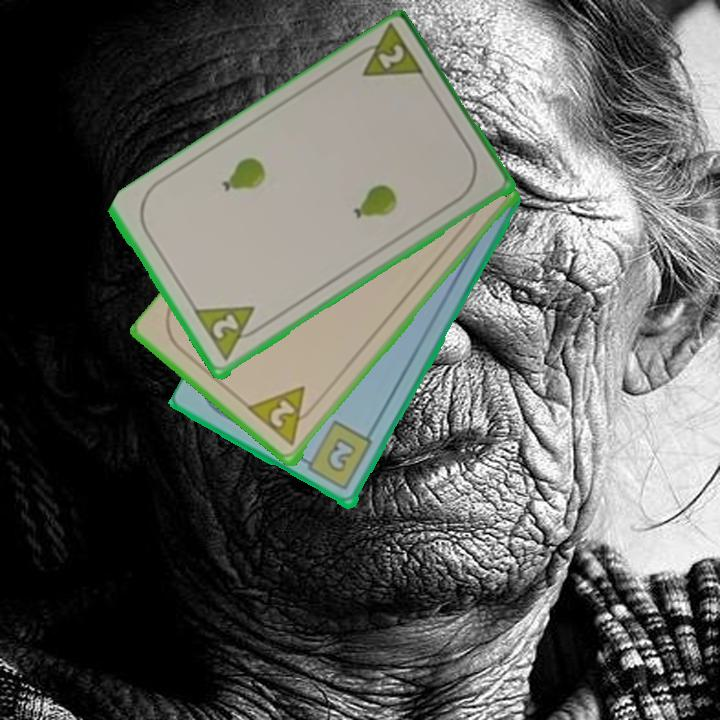2b: (297, 418, 375, 494)
2p: (245, 383, 321, 449), (191, 302, 269, 365), (346, 23, 429, 82)
